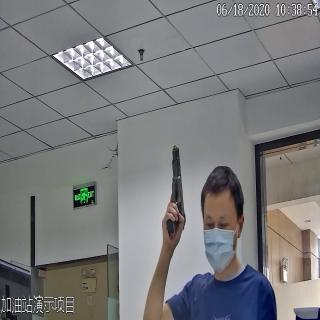gun: (160, 146, 187, 238)
